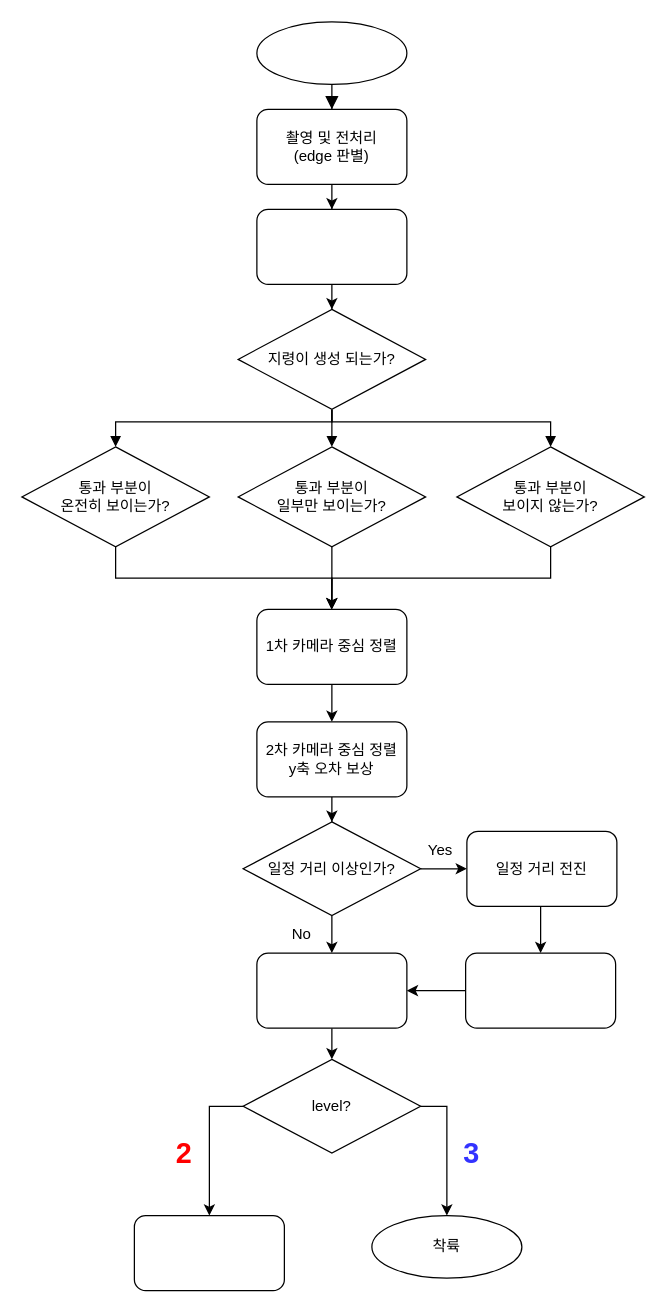
Some shapes in this 666 by 1313 pixel diagram are drawn without their labels. Each missing label, with the centre of its shape:
"과녁 통과 후 빠져나와 135도 회전" belongs at point 208,1252.
"이륙" belongs at point 331,52.
"장애물 중심점 파악 지령 생성" belongs at point 331,246.
"카메라 중심점 정렬 y축 오차 보상" belongs at point 540,990.
"회귀분석을 통해 구한 거리 전진" belongs at point 331,990.
